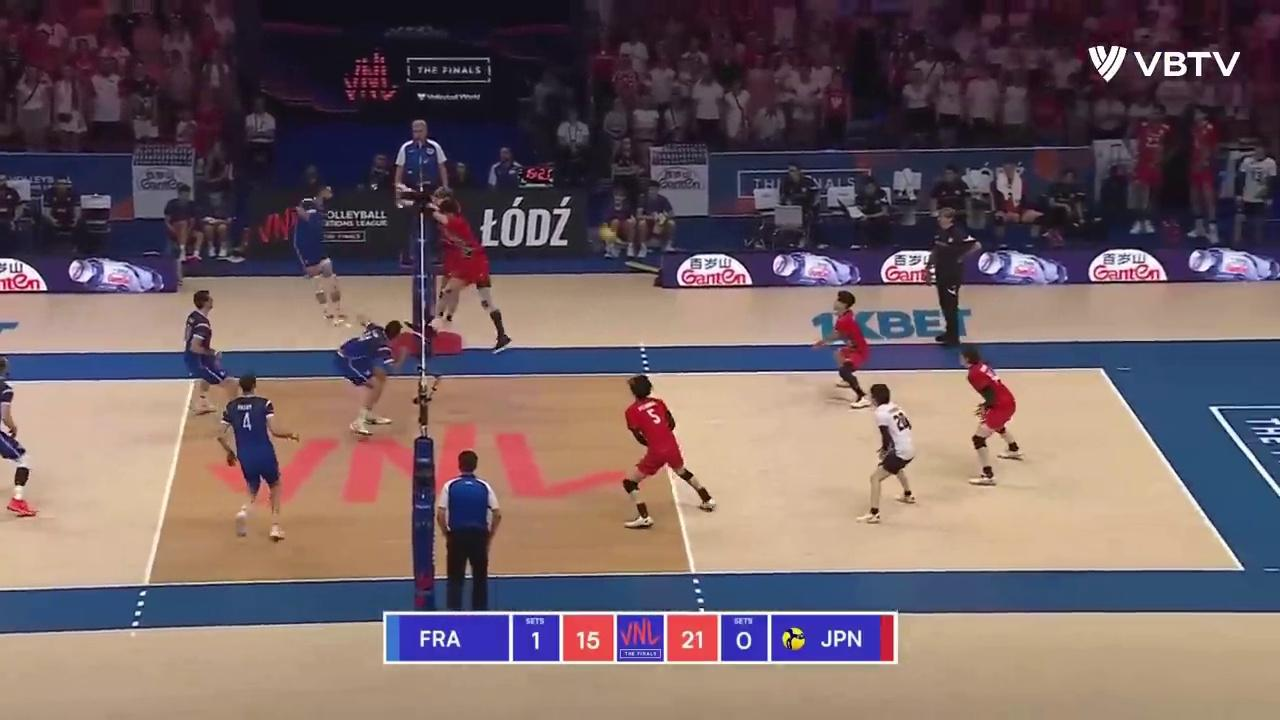ball: (598, 227, 618, 245)
